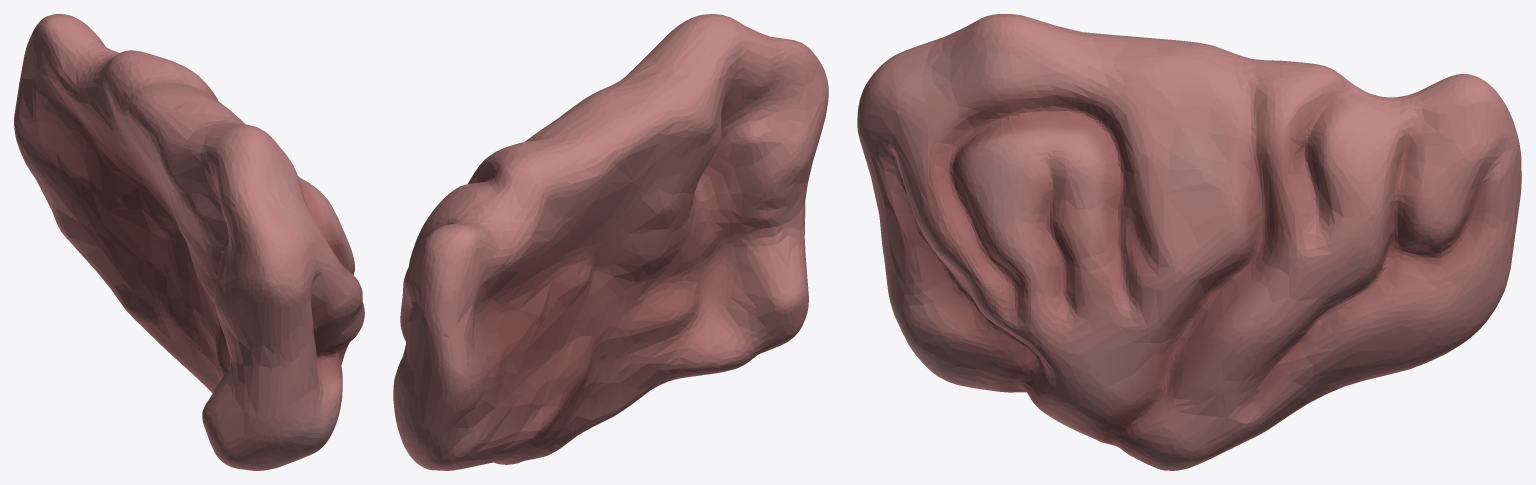
The model's file is Left_insula1.obj.
3 views of the same model, side by side, from view 1: azimuth 30°, elevation 25°; view 2: azimuth 150°, elevation 25°; view 3: azimuth 270°, elevation 25° (orthographic). The views are drawn at different scales.
Parts seen in each view (by area): view 1: obj0; view 2: obj0; view 3: obj0.
Part boxes in pixels (x1,y1,x2,y2): obj0: (14, 14, 364, 470); obj0: (393, 14, 828, 470); obj0: (857, 14, 1521, 470).
Bounding box in the file's own units: 9.25 × 16.53 × 24.72.
Materials: 1 (1 with a texture image).
